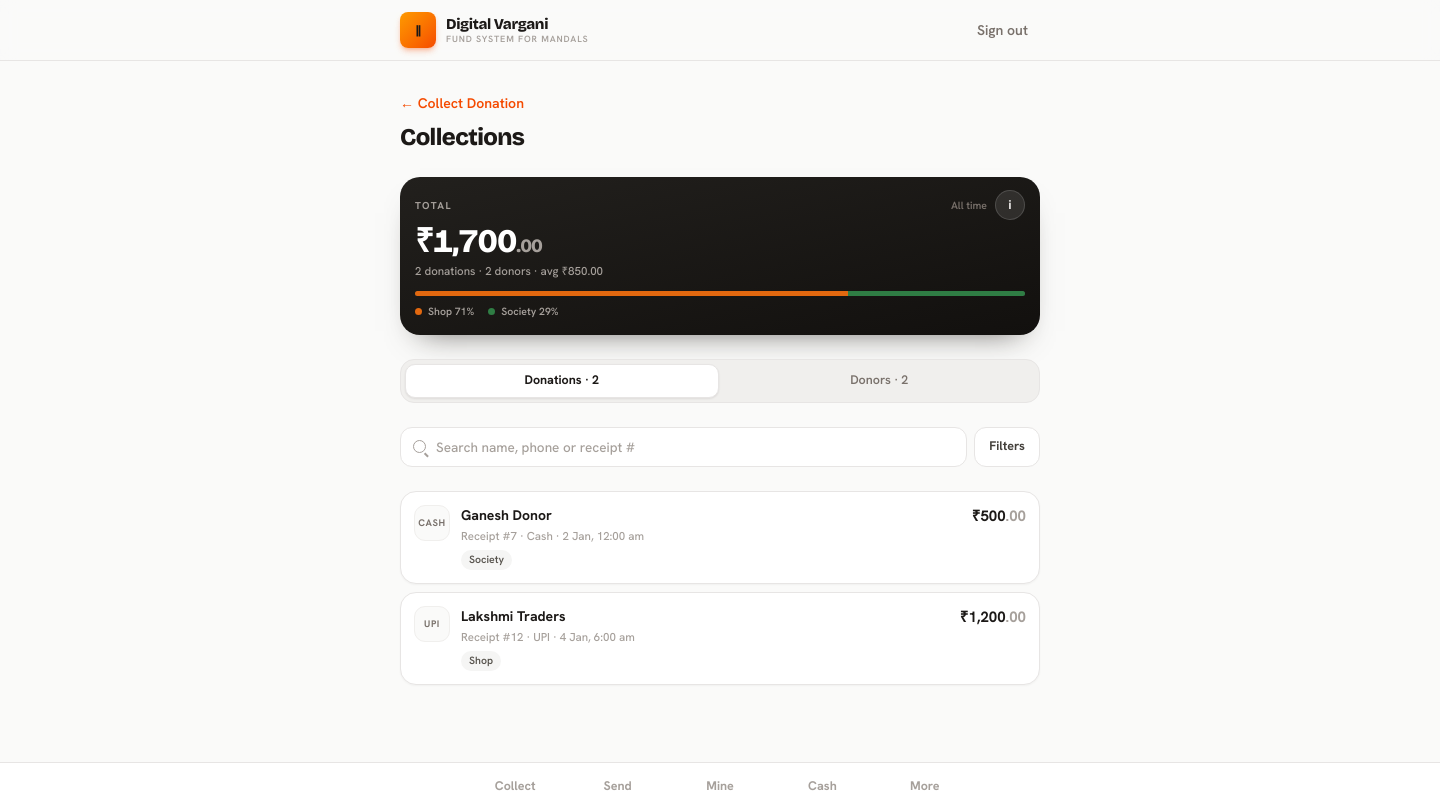
it: CollectionsContent — the Collections & donors tab › keeps a removed source as a filter option while donations still carry it
The width and height of the screenshot is (1440, 810).
Check: the text "Lakshmi Traders" is shown, box [461,607,566,625]
Click the button "Filters" at (1007, 447), box [974,427,1040,467]
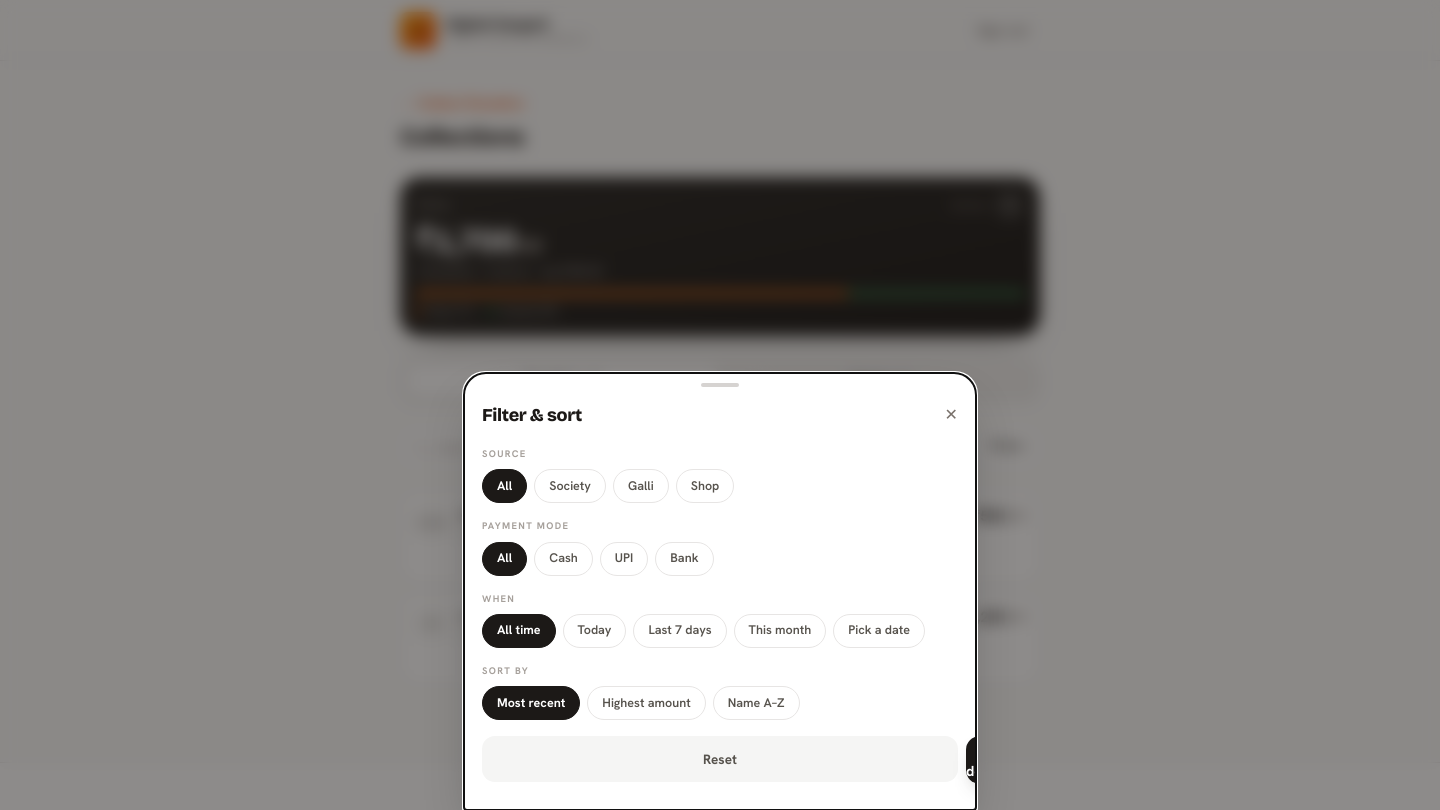
Check: the button "Galli" is shown, box [613,469,669,503]
Check: the button "Shop" is shown, box [676,469,734,503]
